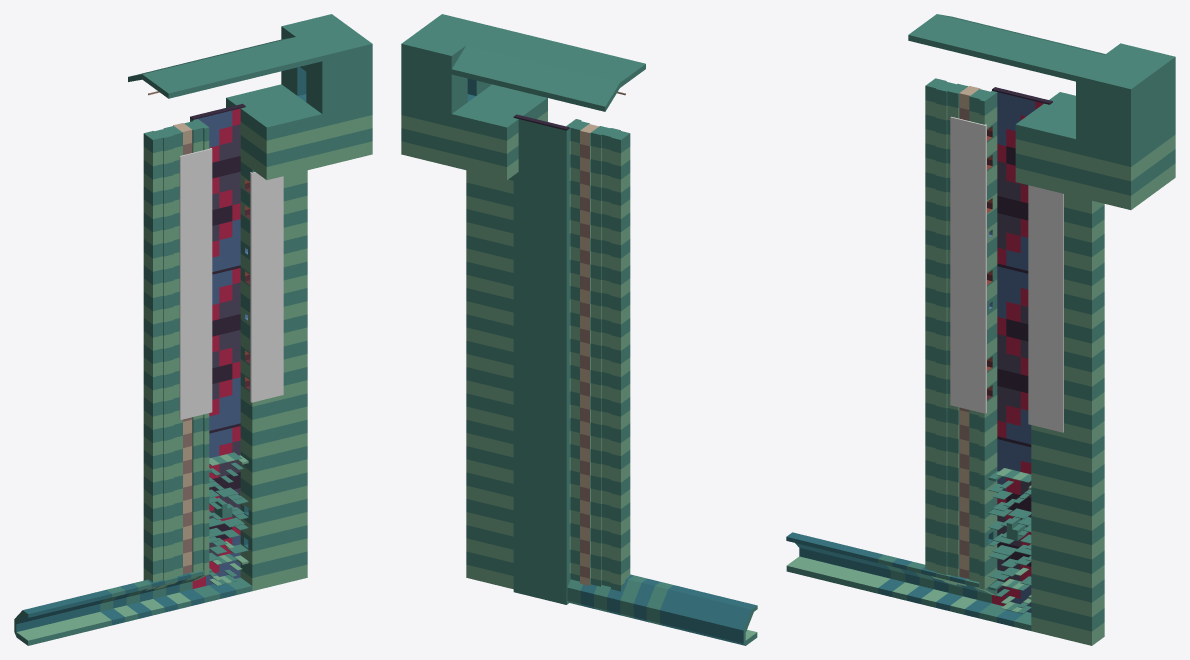
File: contra_level_4.fbx
3 renders of one model, left to right at view 1: azimuth 30°, elevation 25°; view 2: azimuth 150°, elevation 25°; view 3: azimuth 330°, elevation 25°, orthographic. The views are drawn at different scales.
Visible parts, largest first — view 1: BuildingRightSide, BuildingLeftSide, Glass, BuildingBack, Entrance, PlatformFlats; view 2: BuildingRightSide, BuildingLeftSide, BuildingBack, Entrance; view 3: BuildingRightSide, BuildingLeftSide, Glass, BuildingBack, Entrance, PlatformFlats, PlatformBlocks.
Boxes of the visible parts, x1,y1,x2,y2 form: BuildingRightSide: [128, 14, 372, 591]; BuildingLeftSide: [143, 119, 209, 590]; Glass: [179, 148, 283, 419]; BuildingBack: [190, 103, 245, 588]; Entrance: [14, 570, 252, 645]; PlatformFlats: [209, 452, 248, 585]; BuildingRightSide: [401, 14, 645, 589]; BuildingLeftSide: [566, 119, 630, 591]; BuildingBack: [513, 114, 569, 604]; Entrance: [567, 574, 757, 645]; BuildingRightSide: [908, 14, 1175, 645]; BuildingLeftSide: [925, 78, 997, 595]; Glass: [950, 116, 1063, 432]; BuildingBack: [992, 87, 1052, 612]; Entrance: [786, 532, 1031, 630]; PlatformFlats: [988, 468, 1031, 613]; PlatformBlocks: [988, 471, 1031, 599].
Size of the model in its own units: 26200 by 40400 by 5600.
